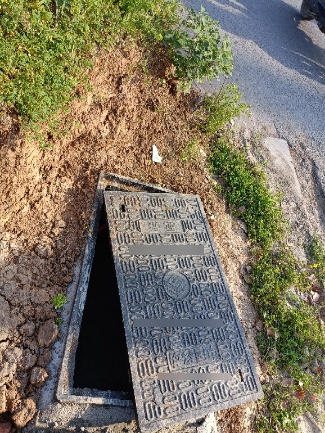uncovered: (56, 169, 263, 433)
